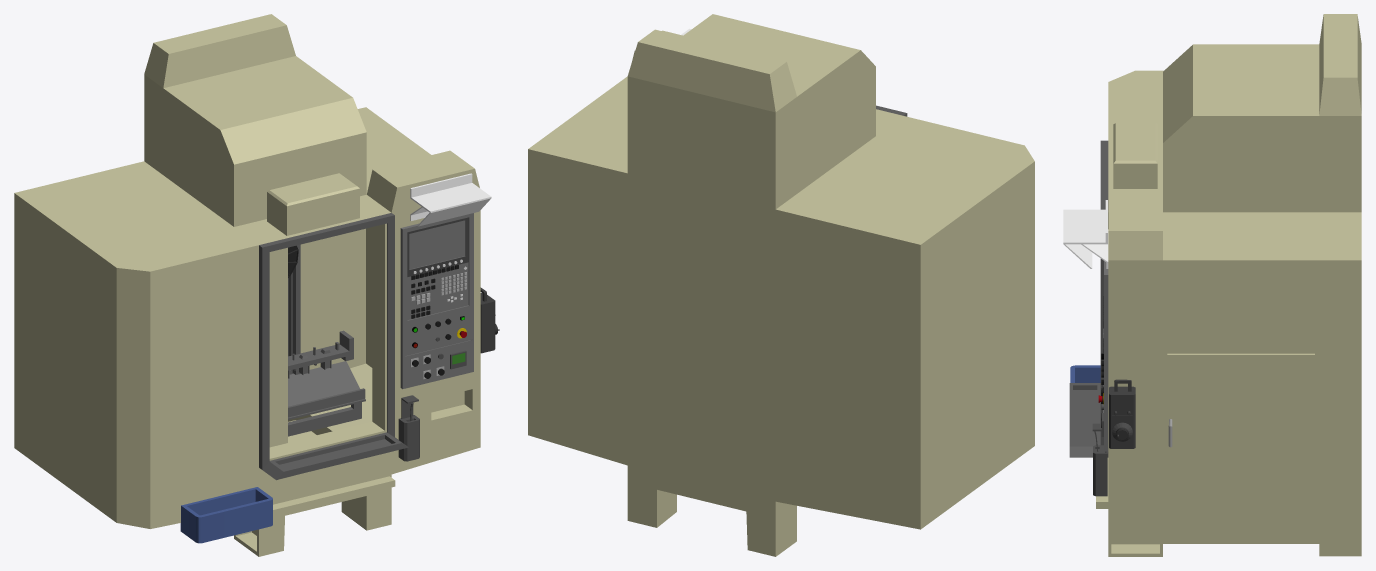
3 renders of one model, left to right at view 1: azimuth 30°, elevation 25°; view 2: azimuth 150°, elevation 25°; view 3: azimuth 270°, elevation 25°, orthographic. The views are drawn at different scales.
Parts seen in each view (by area): view 1: polySurface31, pCube12, pCube11, polySurface32, pCube8, pCube3, pCube7, pCube6, pCube4, pCube10, pCube5; view 2: polySurface31; view 3: polySurface31, pCube3, pCube5, pCube12, pCube4, pCube11.
Boxes of the visible parts, box(x1,y1,x2,y2) form: polySurface31: box(14, 14, 480, 556); pCube12: box(400, 213, 473, 389); pCube11: box(180, 487, 272, 543); polySurface32: box(269, 247, 287, 447); pCube8: box(288, 361, 365, 417); pCube3: box(410, 173, 491, 226); pCube7: box(288, 330, 353, 378); pCube6: box(288, 244, 300, 374); pCube4: box(398, 395, 419, 461); pCube10: box(288, 402, 361, 436); pCube5: box(480, 287, 495, 353); polySurface31: box(528, 14, 1034, 556); polySurface31: box(1069, 14, 1361, 556); pCube3: box(1063, 200, 1108, 268); pCube5: box(1109, 379, 1135, 448); pCube12: box(1104, 261, 1108, 451); pCube4: box(1092, 423, 1107, 496); pCube11: box(1070, 365, 1100, 382).
Bounding box in the file's own units: 178 × 195 × 111.
